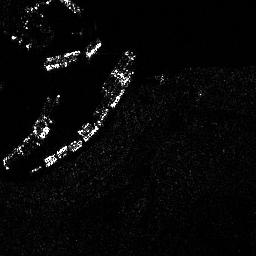ship: (84, 41, 101, 58)
